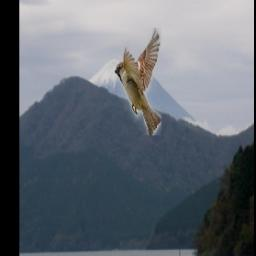Sparrow: (114, 29, 161, 136)
